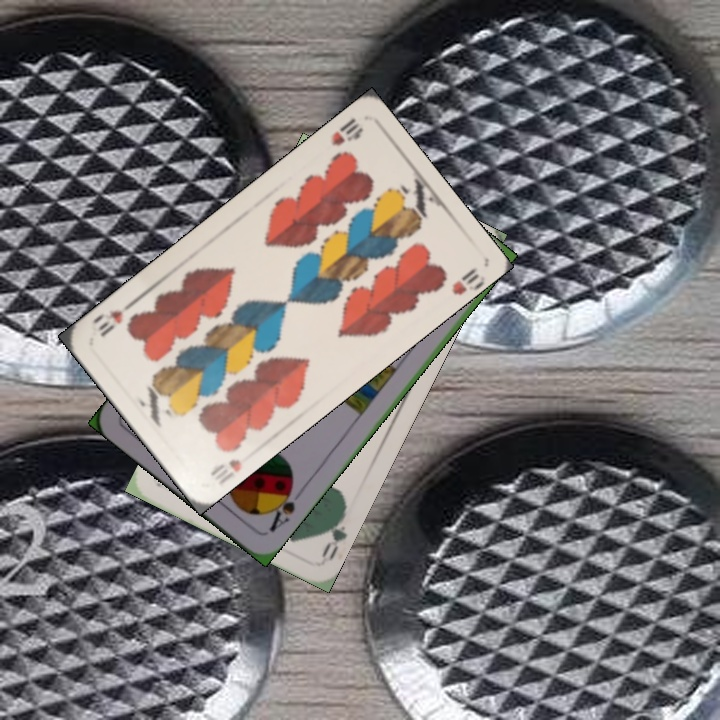GO: (317, 505, 349, 564)
H10: (327, 114, 366, 149), (206, 454, 244, 479)
SA: (263, 480, 298, 535)
